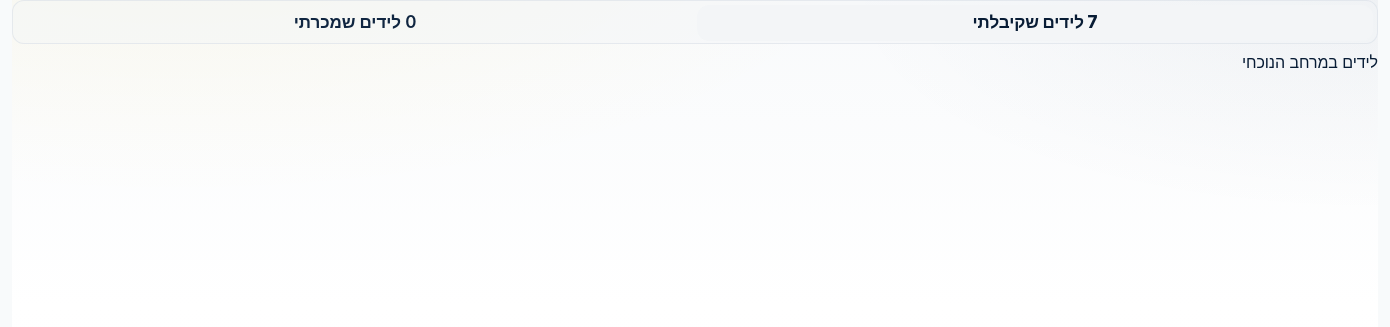
it: lead direction tabs › defaults to received and lets an existing partner view sent leads then return
The image size is (1390, 327).
Check: the text "לידים במרחב הנוכחי" is shown, box left=1242, top=52, right=1378, bottom=72
Press the mouse on the tab "0 לידים שמכרתי" at [355, 23], box left=17, top=5, right=693, bottom=41
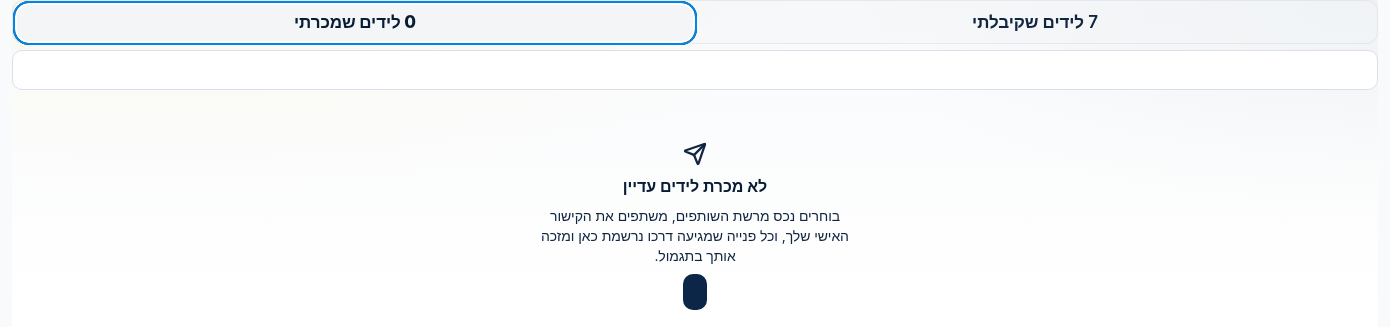
Check: the text "לא מכרת לידים עדיין" is shown, box left=623, top=174, right=767, bottom=198
Check: the text "לידים במרחב הנוכחי" is gone
Press the mouse on the tab "7 לידים שקיבלתי" at [1035, 23], box left=697, top=5, right=1373, bottom=41
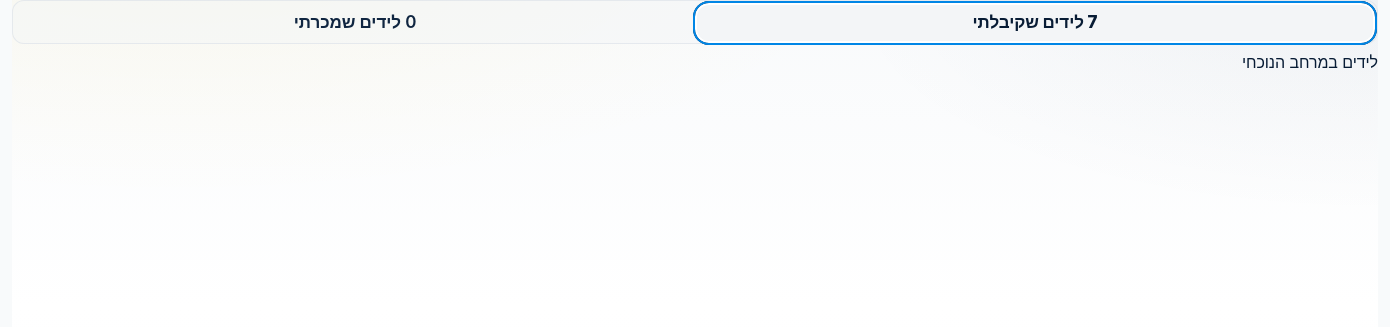
Check: the text "לידים במרחב הנוכחי" is shown, box left=1242, top=52, right=1378, bottom=72
